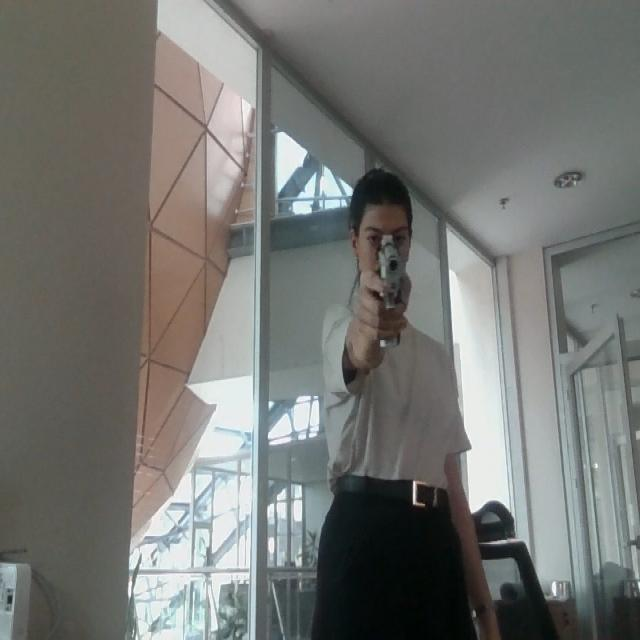handgun: (369, 228, 442, 372)
